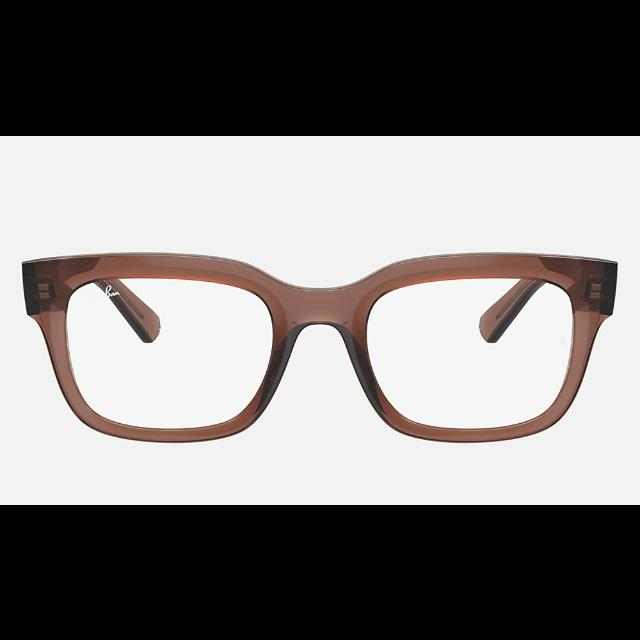glasses: (23, 249, 619, 441)
